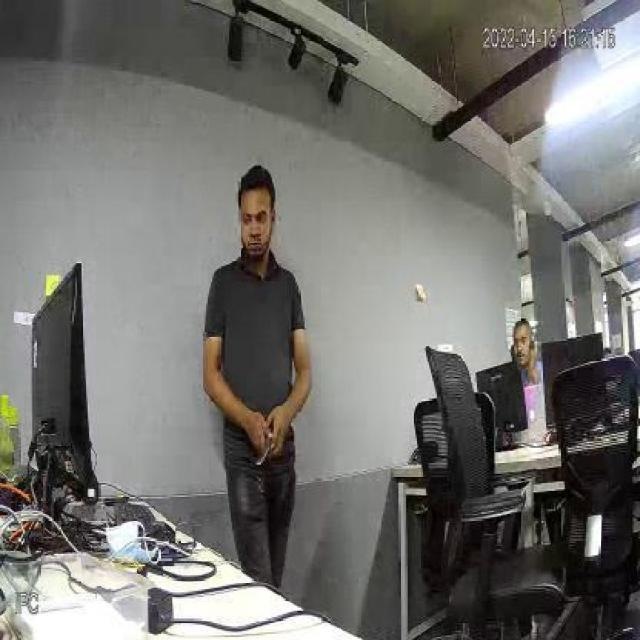-: (251, 440, 275, 472)
